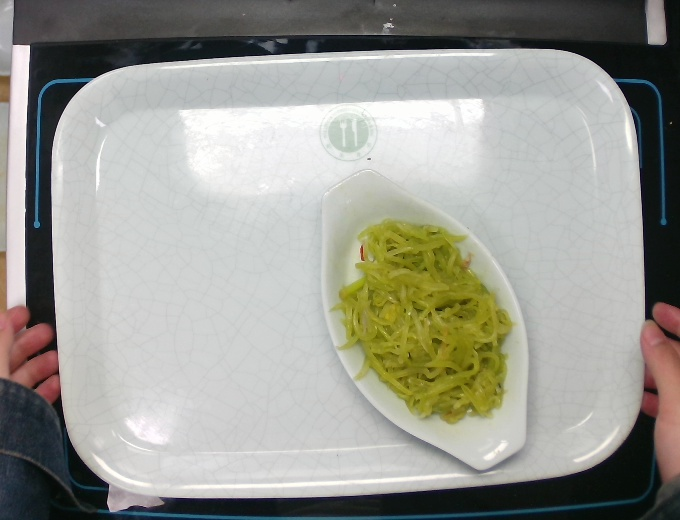JYsf-Yu_Pan: (317, 167, 532, 472)
